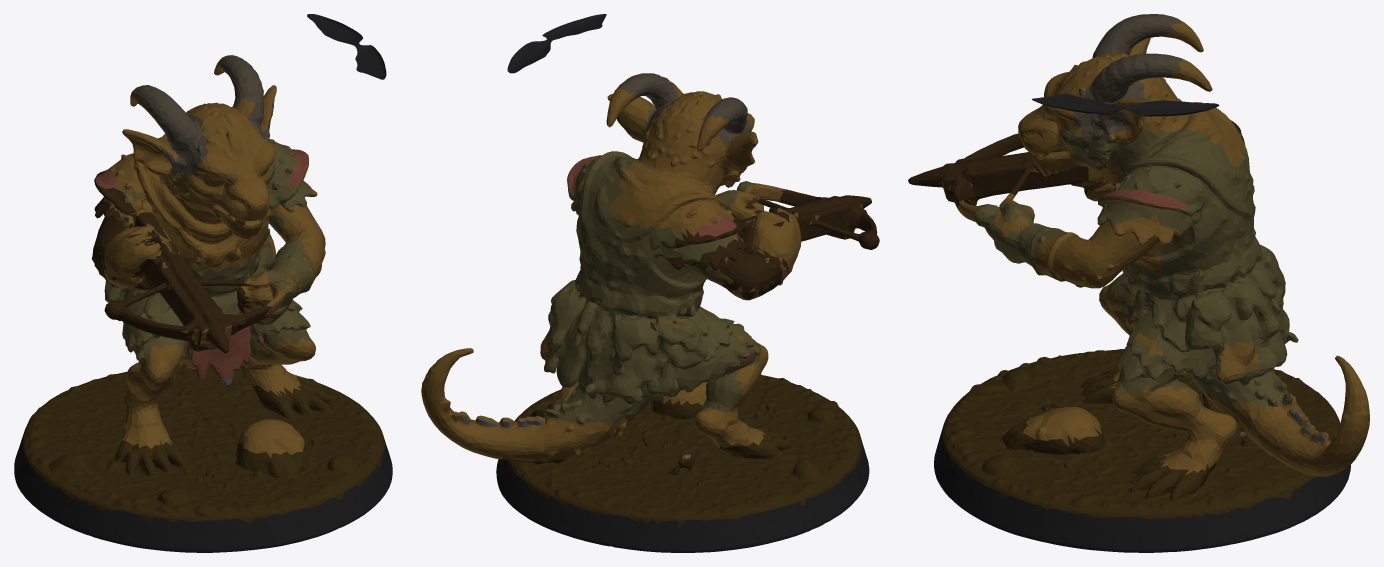
File: kobold_besteiro.glb
3 renders of one model, left to right at view 1: azimuth 30°, elevation 25°; view 2: azimuth 150°, elevation 25°; view 3: azimuth 270°, elevation 25°, orthographic. The views are drawn at different scales.
Parts seen in each view (by area): view 1: tmpjy17n69m.ply; view 2: tmpjy17n69m.ply; view 3: tmpjy17n69m.ply.
Boxes of the visible parts, left/top/right/bottom form: tmpjy17n69m.ply: left=14, top=14, right=392, bottom=552; tmpjy17n69m.ply: left=421, top=14, right=879, bottom=552; tmpjy17n69m.ply: left=908, top=14, right=1369, bottom=552.
Bounding box in the file's own units: 1.7 × 1.97 × 1.89.
